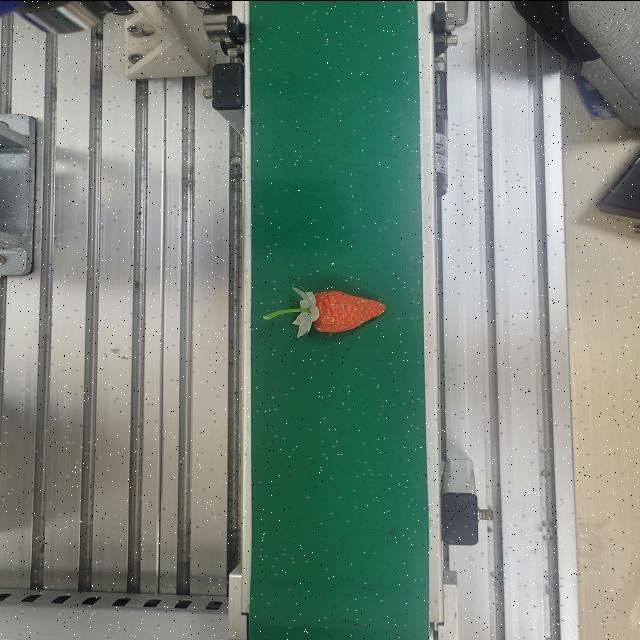Small Ripe Strawberry: (259, 284, 388, 338)
conveyor: (241, 0, 433, 640)
